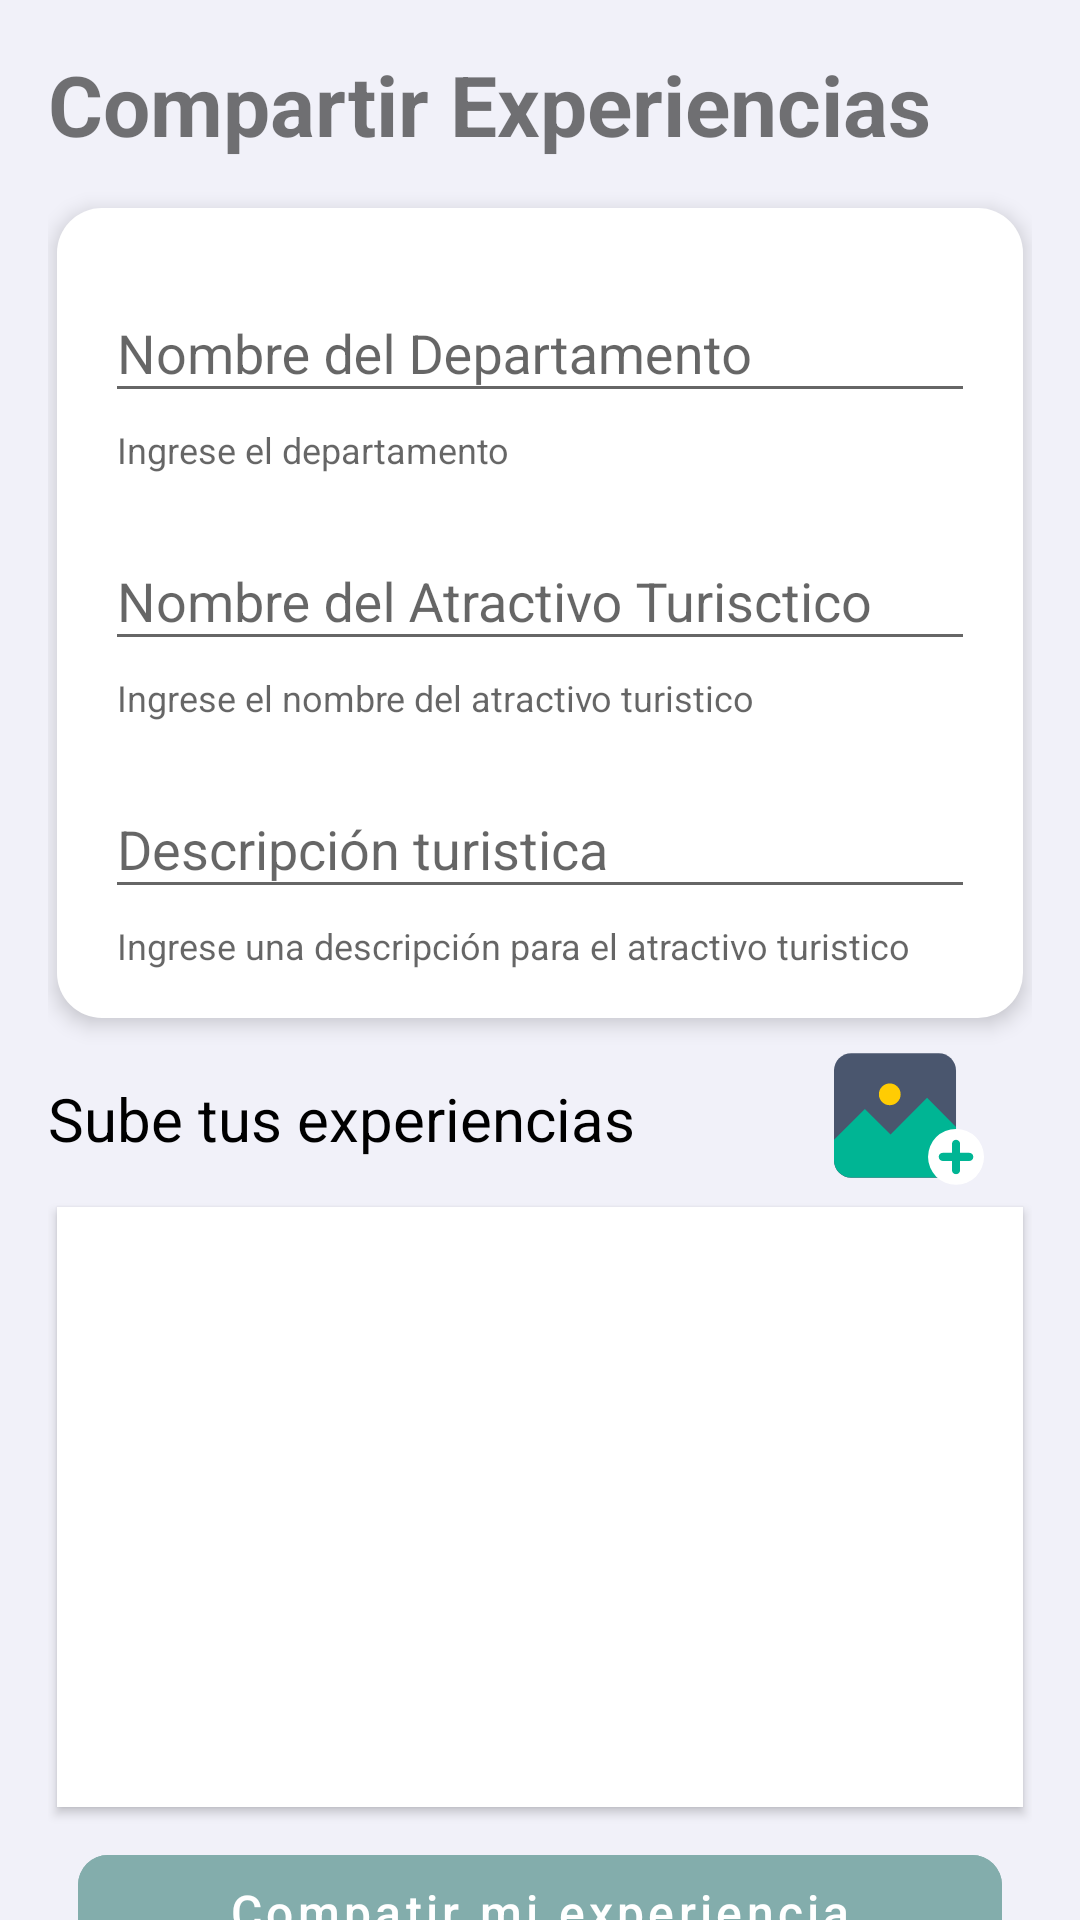

Point at icon controls on the screen. Image size 1080 x 1920, points as point (x, y).
add: point (904, 1115)
